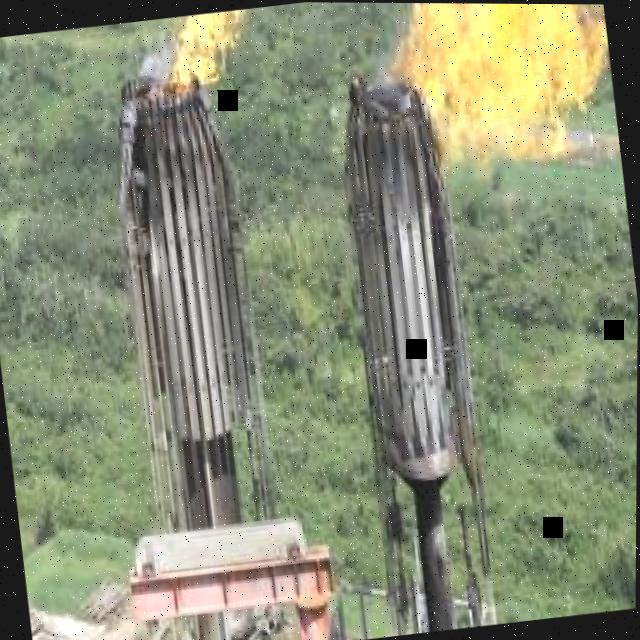fire: (384, 2, 608, 177), (169, 8, 244, 86)
